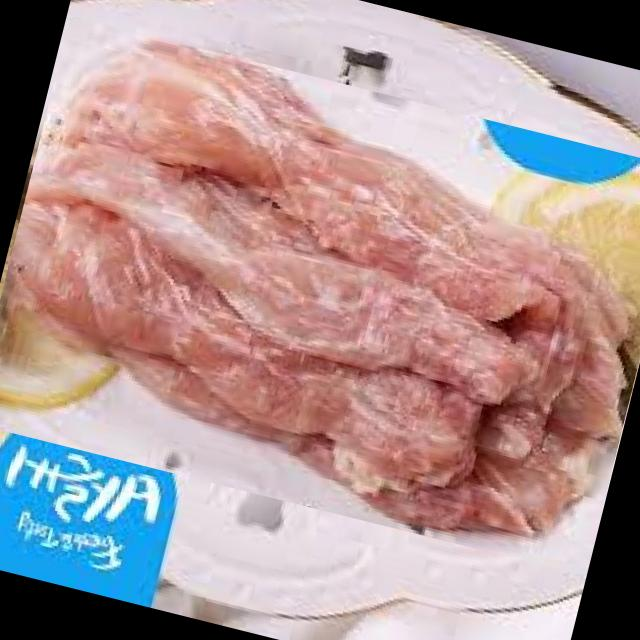chicken: (0, 15, 640, 576)
